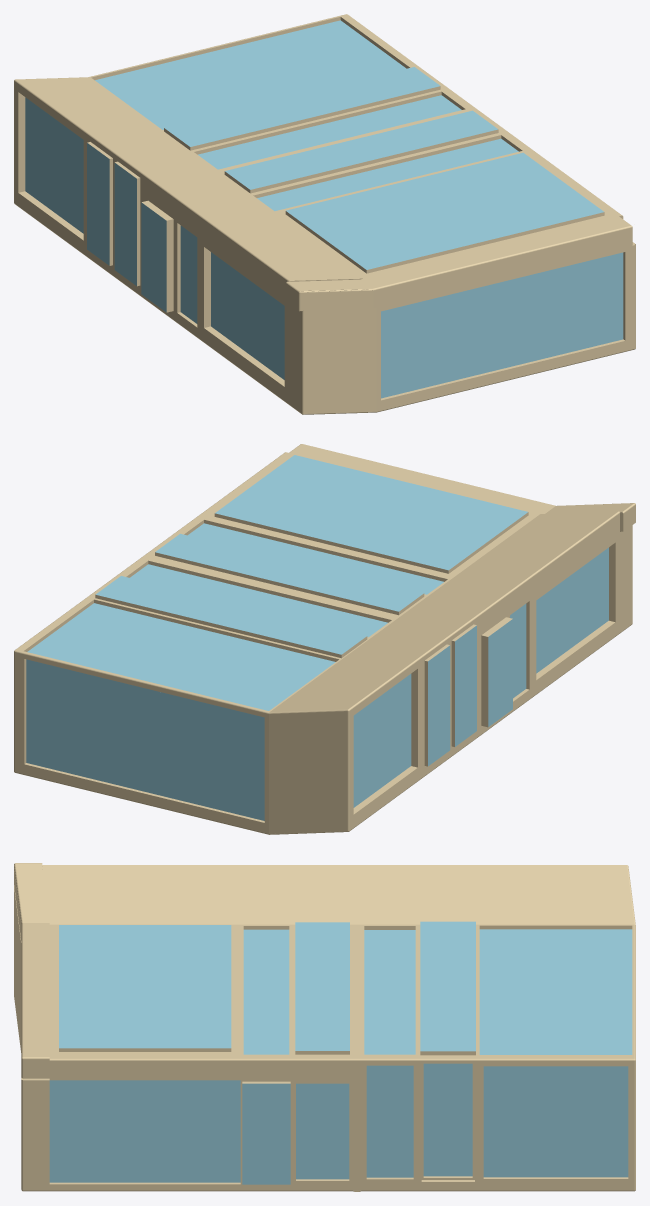
Rendered from corredor.fbx.
3 renders of one model, top to bottom at view 1: azimuth 30°, elevation 25°; view 2: azimuth 150°, elevation 25°; view 3: azimuth 270°, elevation 25°, orthographic. The views are drawn at different scales.
Parts seen in each view (by area): view 1: Cube; view 2: Cube; view 3: Cube.
Part boxes in pixels (x1,y1,x2,y2): Cube: [14, 14, 635, 414]; Cube: [14, 444, 635, 834]; Cube: [14, 863, 635, 1191].
Bounding box in the file's own units: 10160 × 4010 × 14811.
